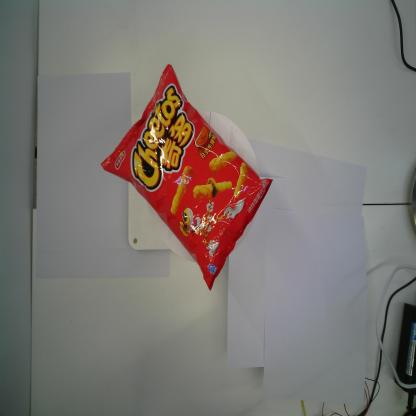Puffed Food: (99, 63, 273, 292)
